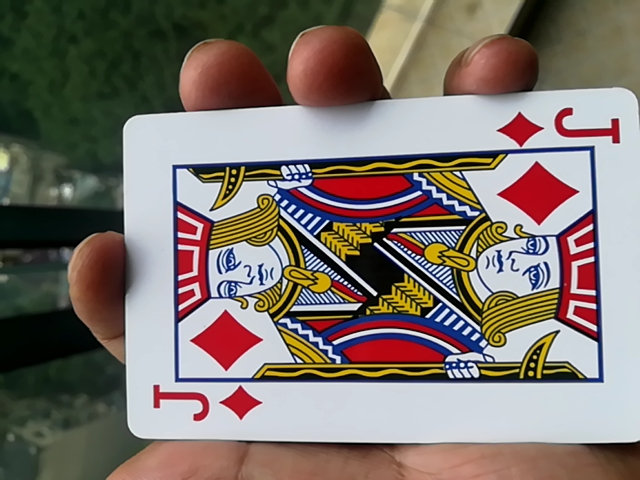fk j: (107, 108, 637, 457)
